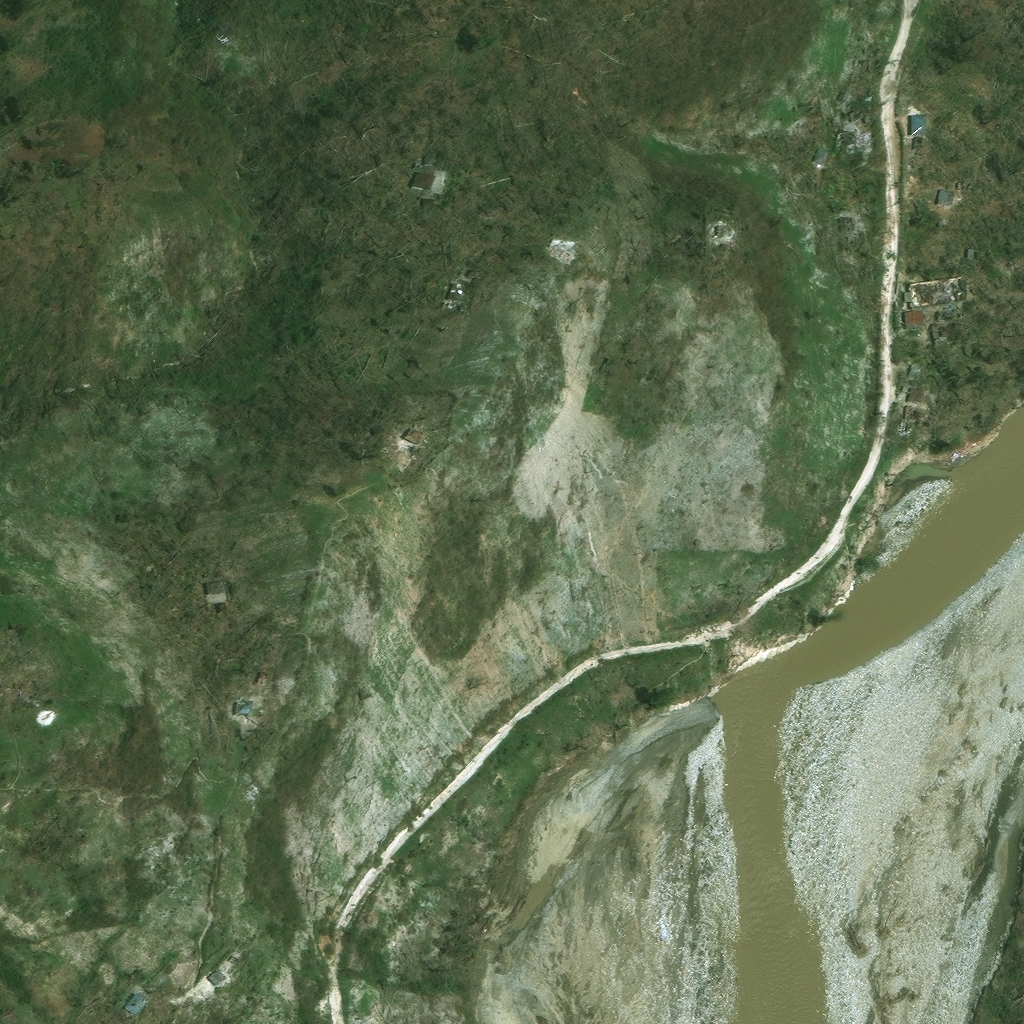destroyed: (943, 257, 987, 289), (482, 280, 503, 302), (654, 259, 667, 270), (165, 1002, 176, 1012)
minor_damage: (968, 167, 986, 188), (937, 291, 954, 311), (92, 1011, 115, 1023), (175, 988, 191, 1004), (929, 374, 943, 390), (183, 731, 196, 746), (877, 196, 889, 212), (175, 599, 188, 612), (876, 109, 884, 125)
no_damage: (385, 188, 403, 206)
unclassified: (960, 307, 973, 324), (389, 325, 400, 335)
